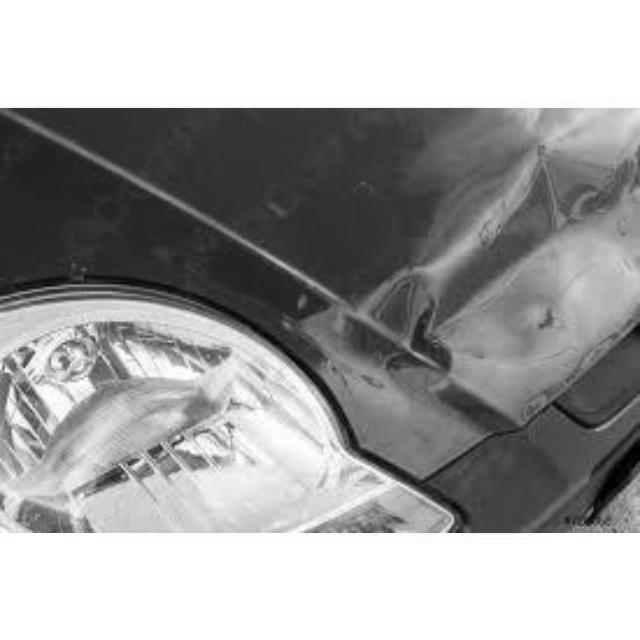bonnet-dent: (270, 123, 640, 499)
